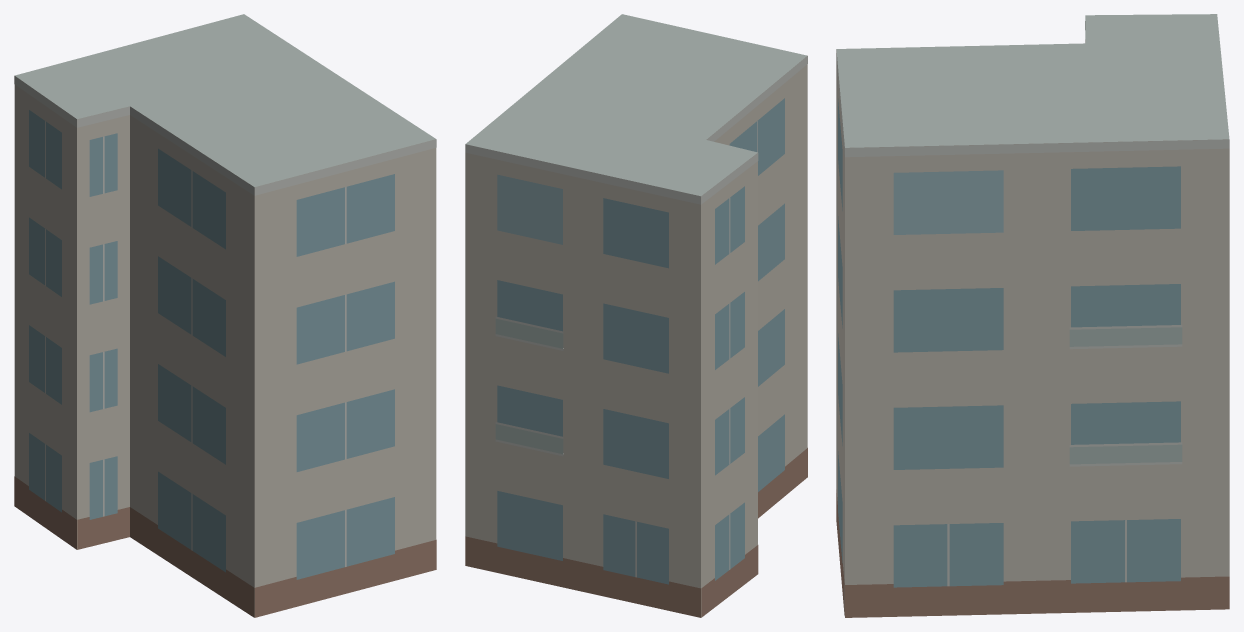
File: survey-upis-32683753.glb
The picture shows the model from 3 angles, left to right: view 1: azimuth 30°, elevation 25°; view 2: azimuth 150°, elevation 25°; view 3: azimuth 270°, elevation 25°; orthographic projection. The views are drawn at different scales.
Visible parts, largest first — view 1: survey-upis-32683753.tmp; view 2: survey-upis-32683753.tmp; view 3: survey-upis-32683753.tmp.
Boxes of the visible parts, box(x1,y1,x2,y2) form: survey-upis-32683753.tmp: box(14, 14, 436, 617); survey-upis-32683753.tmp: box(465, 14, 807, 617); survey-upis-32683753.tmp: box(836, 14, 1229, 617).
Size of the model in its own units: 7.46 by 12.2 by 9.26.
